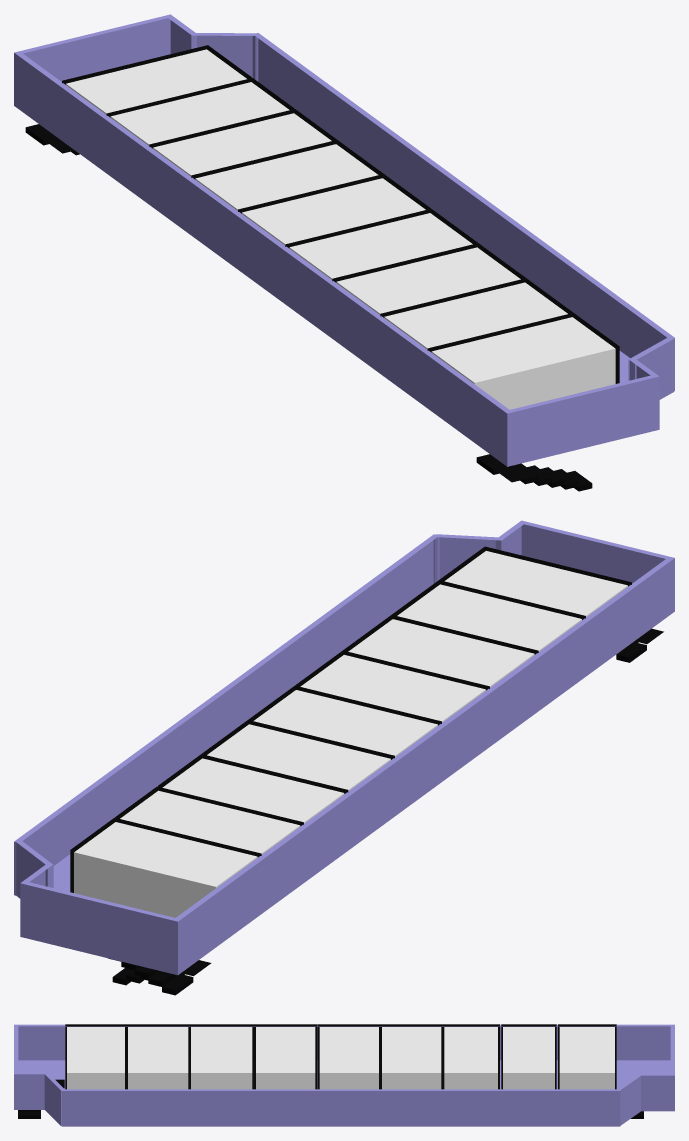
3 renders of one model, top to bottom at view 1: azimuth 30°, elevation 25°; view 2: azimuth 150°, elevation 25°; view 3: azimuth 270°, elevation 25°, orthographic. The views are drawn at different scales.
Visible parts, largest first — view 1: object, room_5_3_1, room_5_3_3, room_5_3_5, room_5_3_2, room_5_3_4, room_5_3_6, room_5_3_9, room_5_3_8, room_5_3_7, 階段_5_3_2, object_line.008 (+8 smaller); view 2: object, room_5_3_9, room_5_3_3, room_5_3_4, room_5_3_2, room_5_3_5, room_5_3_6, room_5_3_1, room_5_3_7, room_5_3_8, 階段_5_3_1, object_line (+8 smaller); view 3: object, room_5_3_3, room_5_3_2, room_5_3_6, room_5_3_5, room_5_3_4, room_5_3_1, room_5_3_9, room_5_3_7, room_5_3_8, object_line.004, object_line.005 (+8 smaller).
Boxes of the visible parts, x1,y1,x2,y2 form: object: (14, 14, 674, 466); room_5_3_1: (431, 317, 615, 409); room_5_3_3: (336, 247, 520, 314); room_5_3_5: (242, 178, 425, 245); room_5_3_2: (384, 282, 567, 349); room_5_3_4: (289, 213, 472, 279); room_5_3_6: (195, 144, 378, 210); room_5_3_9: (66, 49, 246, 114); room_5_3_8: (110, 82, 289, 145); room_5_3_7: (153, 113, 331, 176); 階段_5_3_2: (476, 454, 592, 491); object_line.008: (427, 313, 619, 383); object: (14, 520, 674, 975); room_5_3_9: (74, 822, 257, 917); room_5_3_3: (348, 619, 534, 687); room_5_3_4: (300, 655, 485, 722); room_5_3_2: (397, 584, 581, 651); room_5_3_5: (253, 690, 437, 756); room_5_3_6: (207, 724, 390, 790); room_5_3_1: (444, 551, 627, 616); room_5_3_7: (162, 758, 344, 823); room_5_3_8: (120, 790, 300, 854); 階段_5_3_1: (108, 958, 211, 995); object_line: (70, 817, 261, 892); object: (14, 1024, 674, 1126); room_5_3_3: (191, 1027, 252, 1089); room_5_3_2: (128, 1027, 188, 1089); room_5_3_6: (382, 1027, 441, 1089); room_5_3_5: (319, 1027, 378, 1089); room_5_3_4: (256, 1027, 315, 1089); room_5_3_1: (67, 1027, 124, 1089); room_5_3_9: (559, 1027, 614, 1089); room_5_3_7: (444, 1027, 497, 1089); room_5_3_8: (503, 1027, 554, 1089); object_line.004: (317, 1024, 380, 1089); object_line.005: (254, 1024, 317, 1089).
Size of the model in its own units: 0.5695 by 0.2698 by 2.39.
